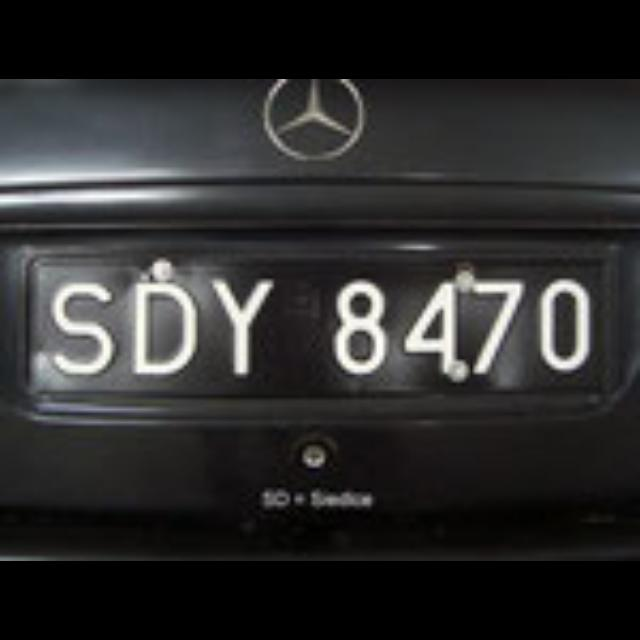pl_license_plate: (26, 258, 602, 382)
